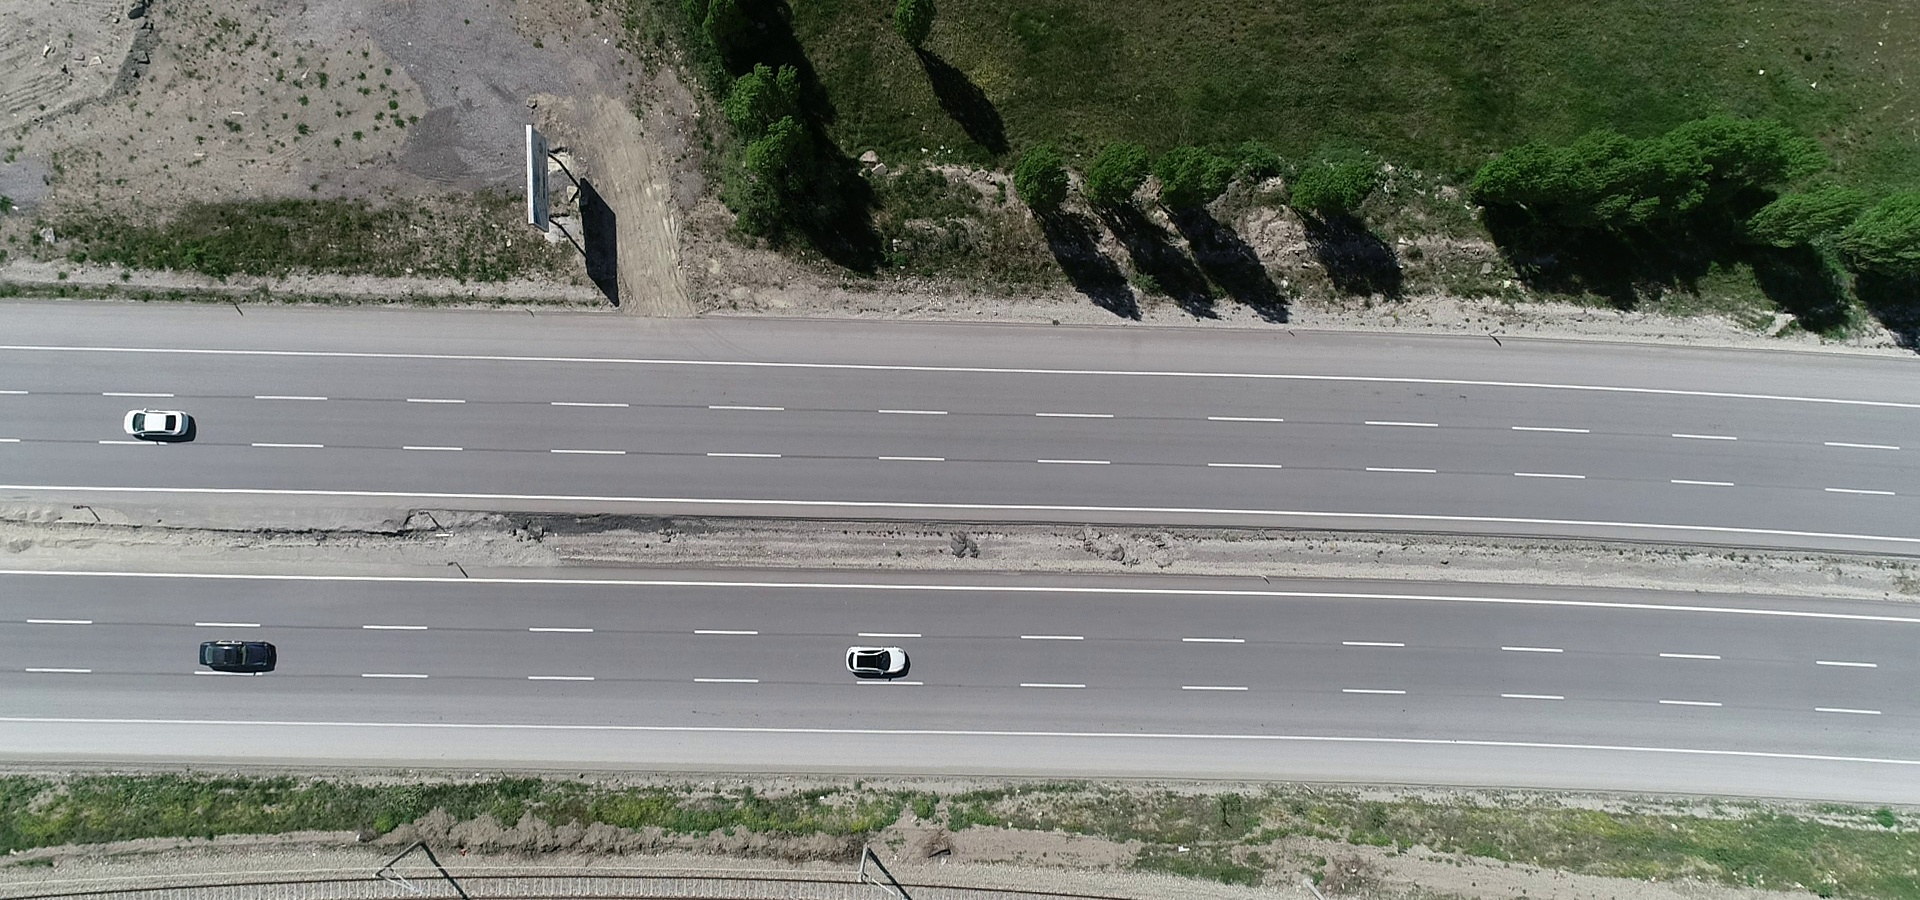araba: (842, 632, 920, 682), (119, 399, 201, 446), (193, 638, 282, 680)
